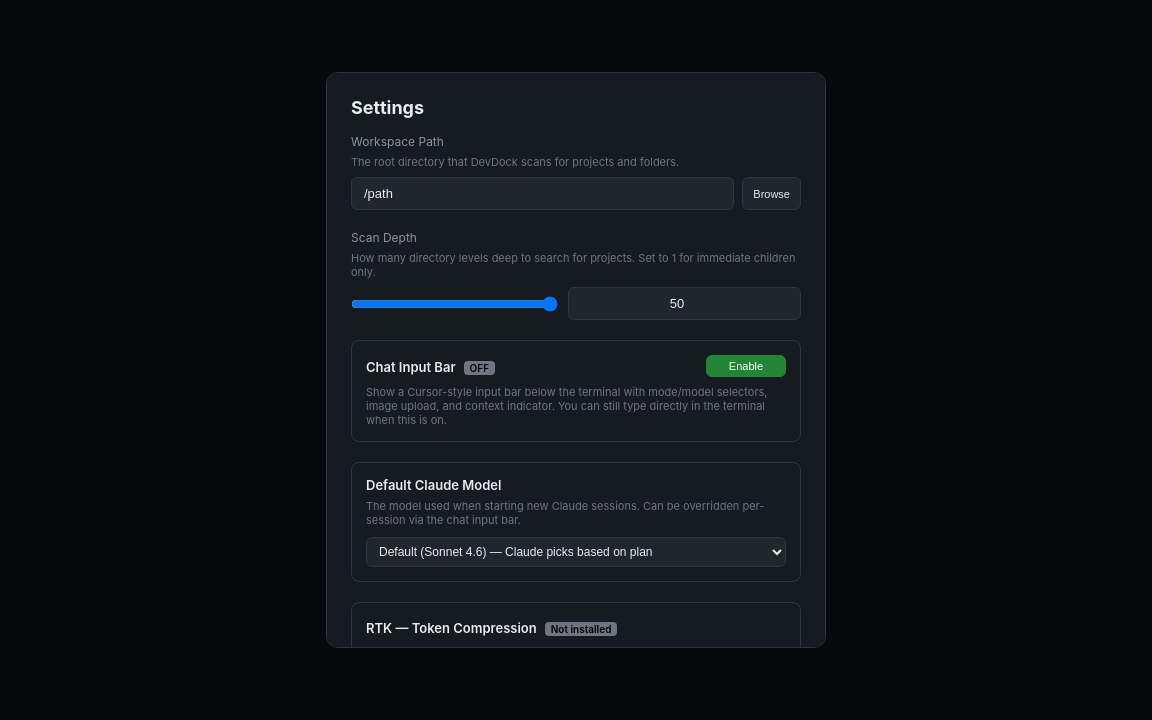
Test: SettingsModal › updates input when folder is selected
Click the button "Browse".
click(772, 194)  # box [742,177,801,210]
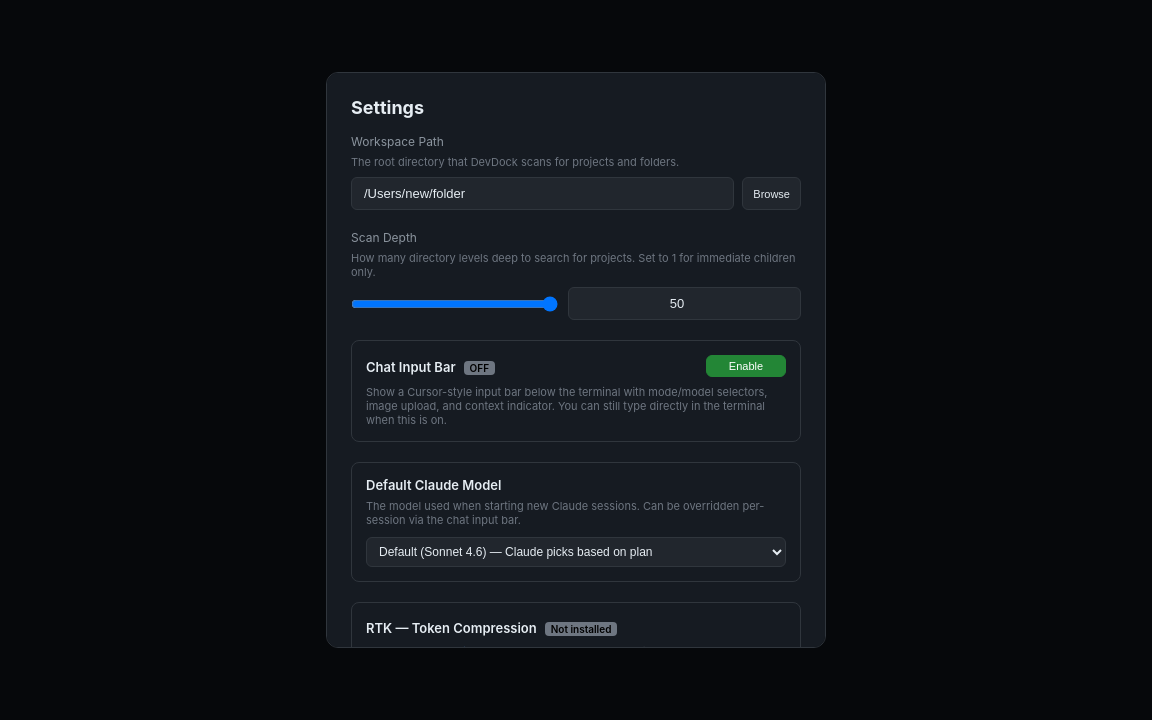
Check: the field showing "/Users/new/folder" is shown, box [351,177,734,210]
